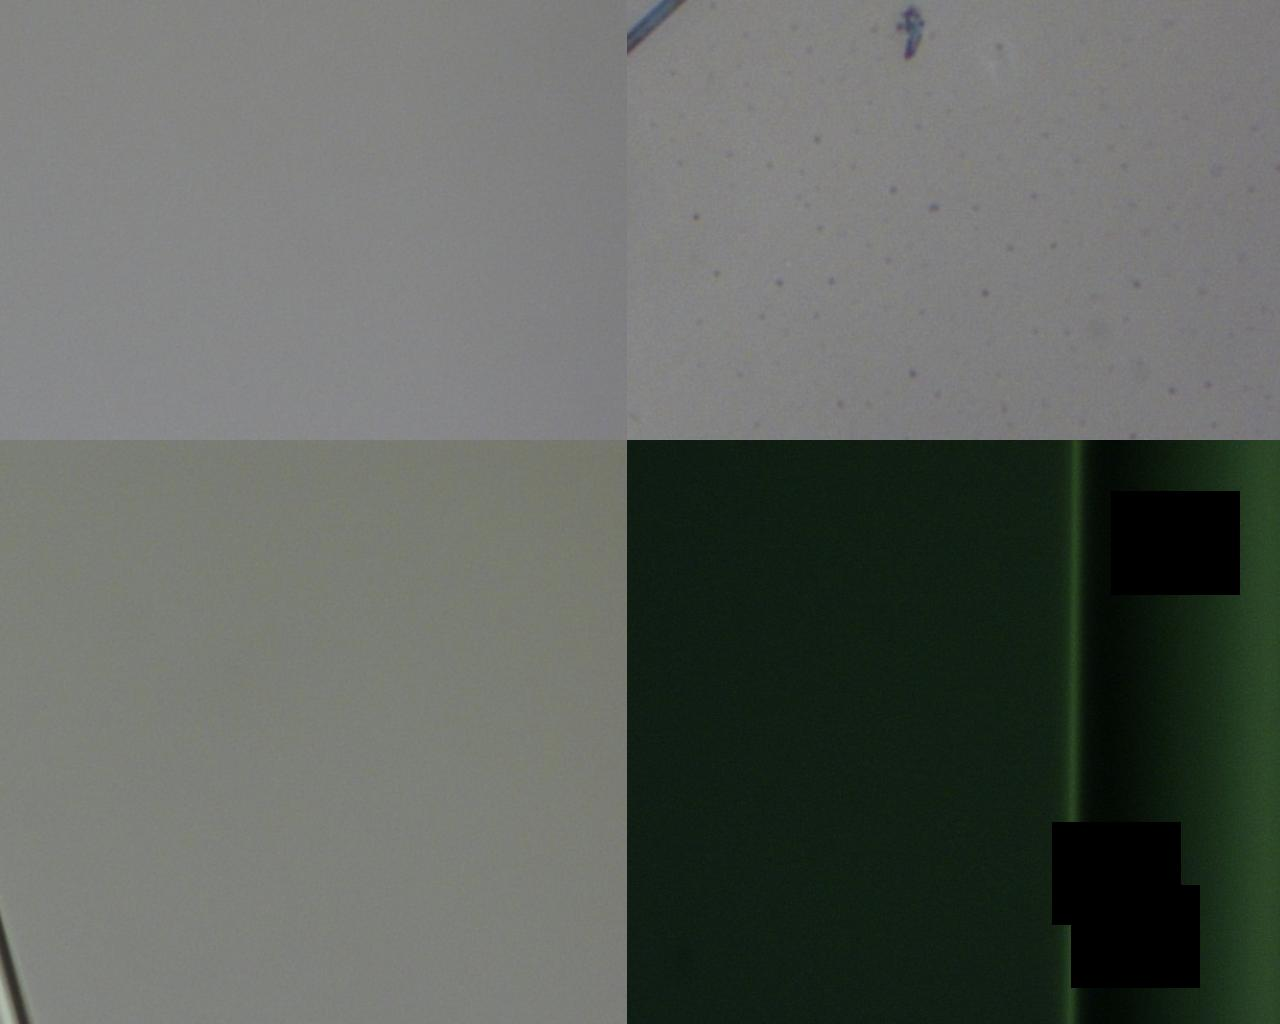fiber: (156, 0, 550, 460), (0, 460, 222, 1024), (938, 0, 1081, 460)
